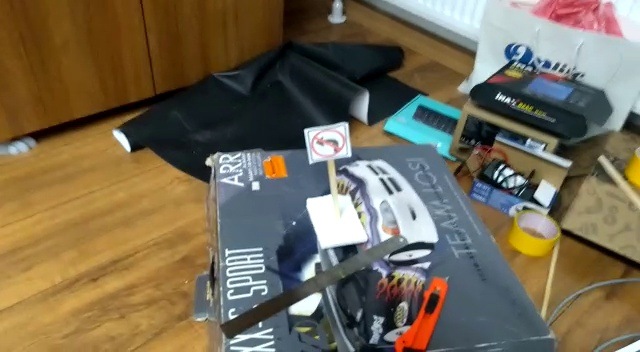sola_donulmez: (309, 123, 347, 159)
